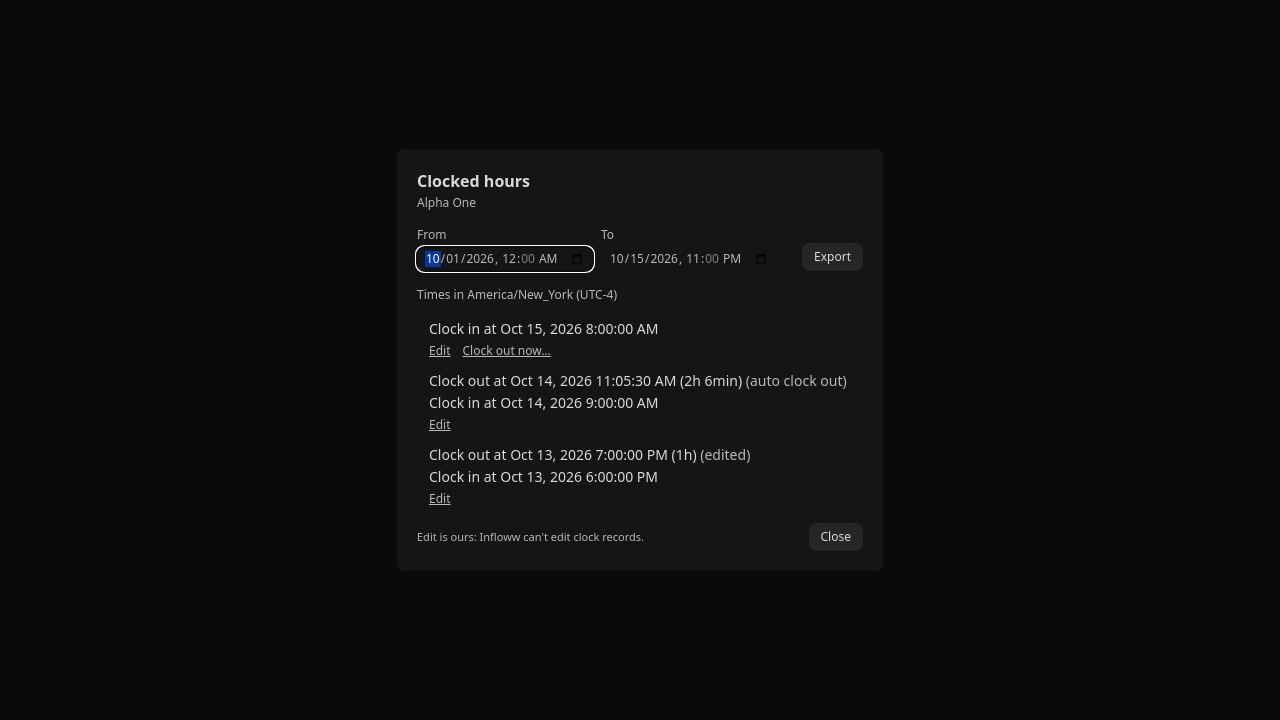
Test case: ClockRecordsModal › a clock out at or before the clock in is refused inline, nothing sent
The image size is (1280, 720).
Check: the text "Clock in at Oct 14, 2026 9:00:00 AM" is shown, box left=429, top=393, right=658, bottom=412
Click the button "Edit" below "Clock in at Oct 14, 2026 9:00:00 AM": (440, 425) left=429, top=417, right=450, bottom=433
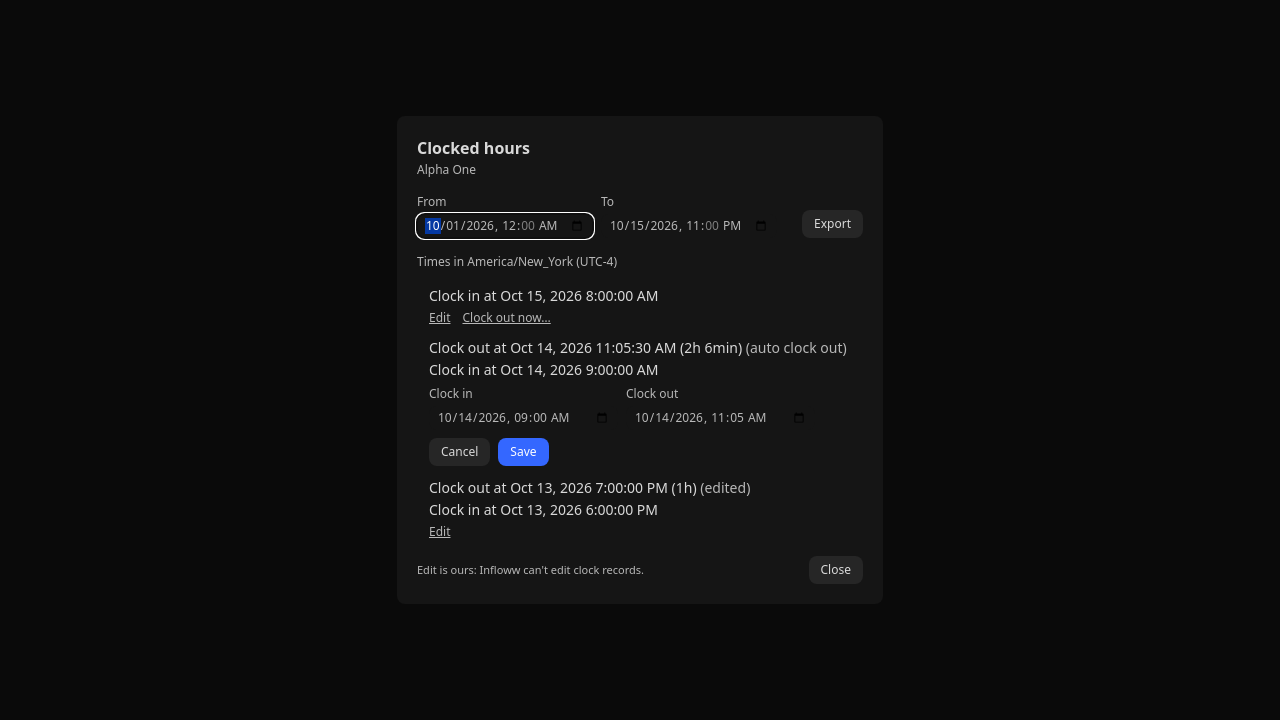
Replace the text in the field labelled "Clock out" with "2026-10-14T08:00": (720, 418) left=626, top=406, right=815, bottom=430
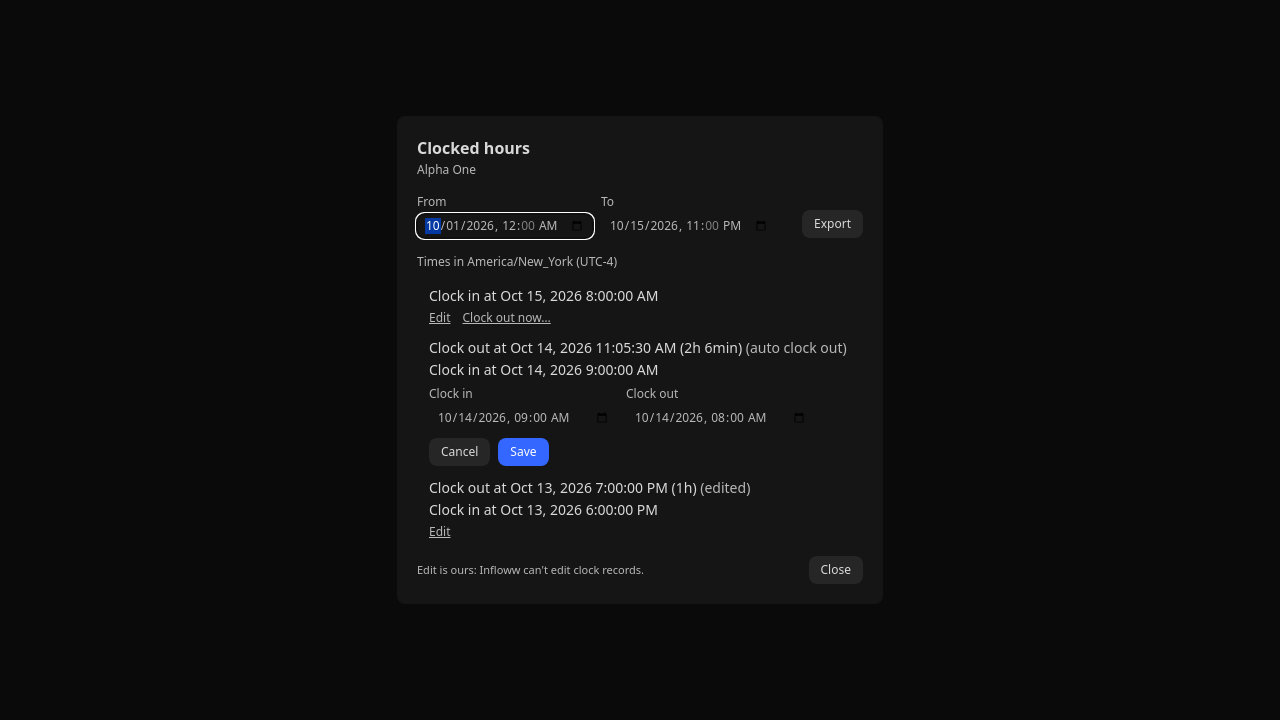
Click the button "Save": (524, 452) left=498, top=438, right=549, bottom=466
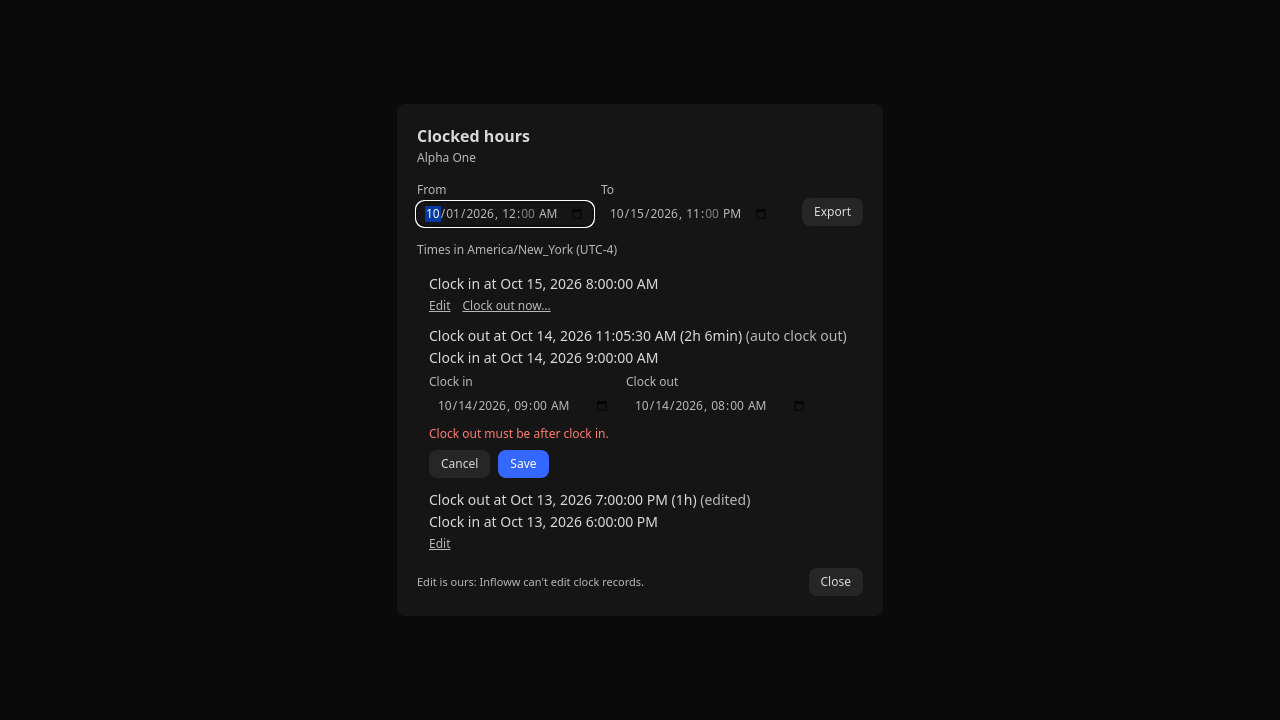
Check: the message reads "Clock out must be after clock in.", box left=429, top=425, right=609, bottom=442
